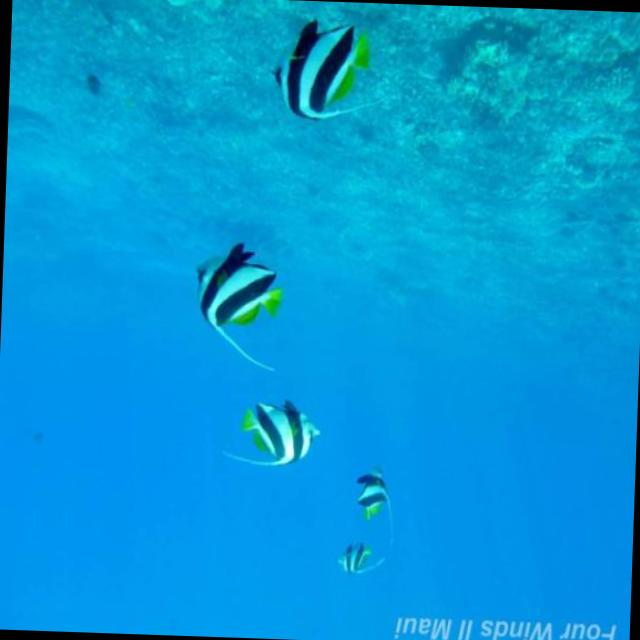MorishIdol: (190, 239, 286, 372), (269, 15, 376, 124), (222, 395, 322, 470), (354, 466, 394, 524), (335, 538, 386, 577)
